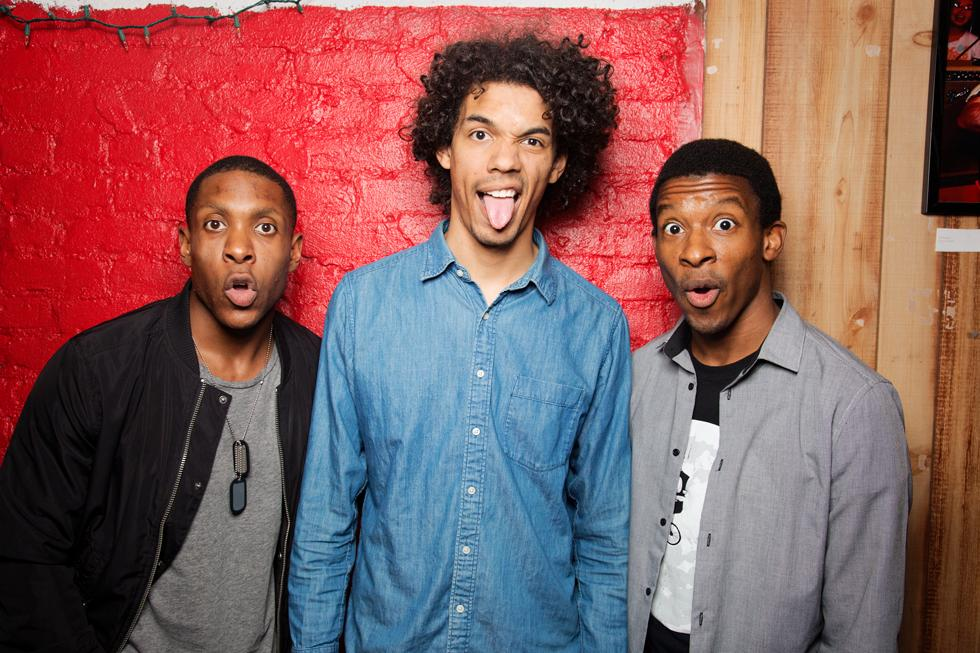bare: (656, 245, 766, 334), (450, 152, 550, 249), (186, 242, 290, 324)
